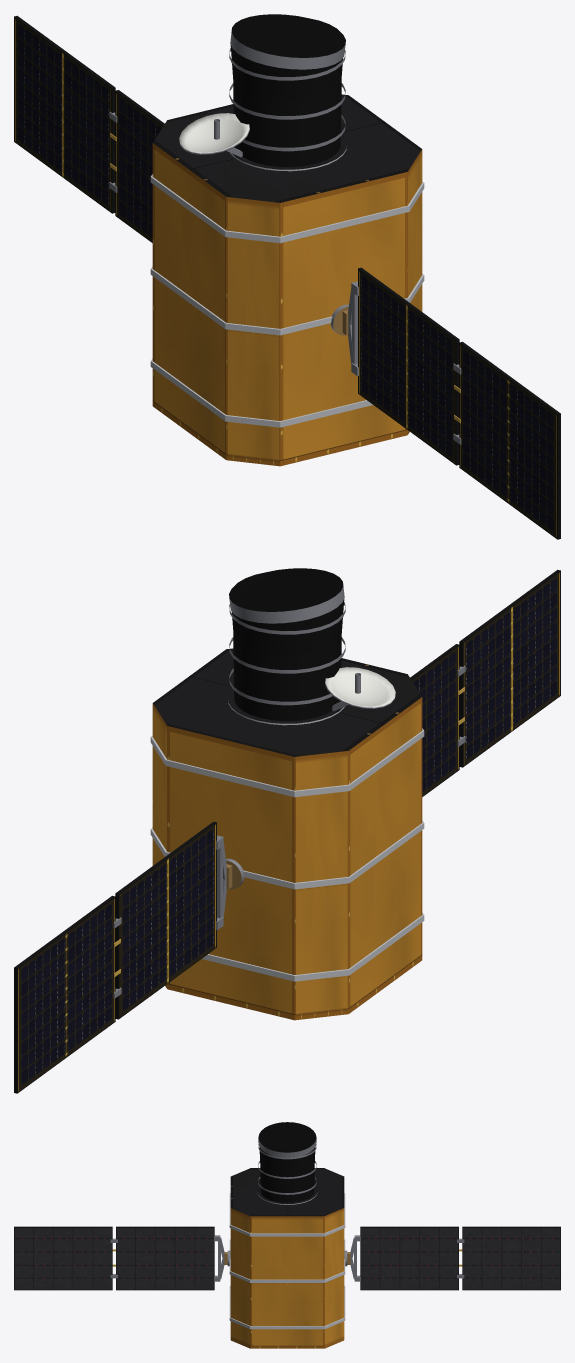
Rendered from superview-neo-1.glb.
3 views of the same model, one above another, from view 1: azimuth 30°, elevation 25°; view 2: azimuth 150°, elevation 25°; view 3: azimuth 270°, elevation 25° (orthographic). The views are drawn at different scales.
Visible parts, largest first — view 1: bus, wing-Y, wing+Y; view 2: bus, wing+Y, wing-Y; view 3: bus, wing+Y, wing-Y.
Boxes of the visible parts, x1,y1,x2,y2 form: bus: (150,14,424,466); wing-Y: (342,267,560,539); wing+Y: (14,15,164,242); bus: (150,568,424,1020); wing+Y: (14,821,232,1093); wing-Y: (410,569,560,796); bus: (229,1122,345,1348); wing+Y: (347,1226,560,1290); wing-Y: (14,1226,227,1290).
Bounding box in the file's own units: 1.49 × 2.86 × 6.92.
15 materials, 5 textured.
